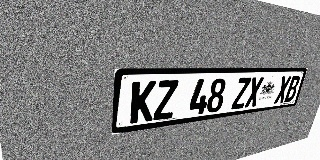4: (188, 79, 211, 116)
8: (205, 78, 228, 113)
B: (284, 75, 301, 102)
K: (130, 81, 157, 124)
X: (244, 77, 264, 108), (274, 76, 292, 104)
Z: (153, 80, 179, 121), (231, 77, 251, 110)
